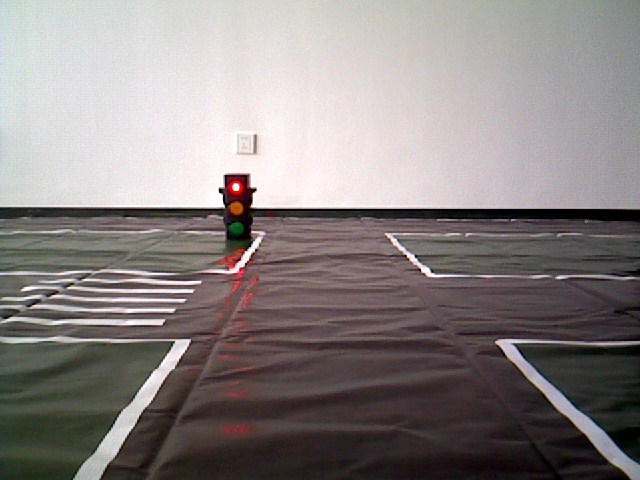red: (225, 173, 249, 245)
